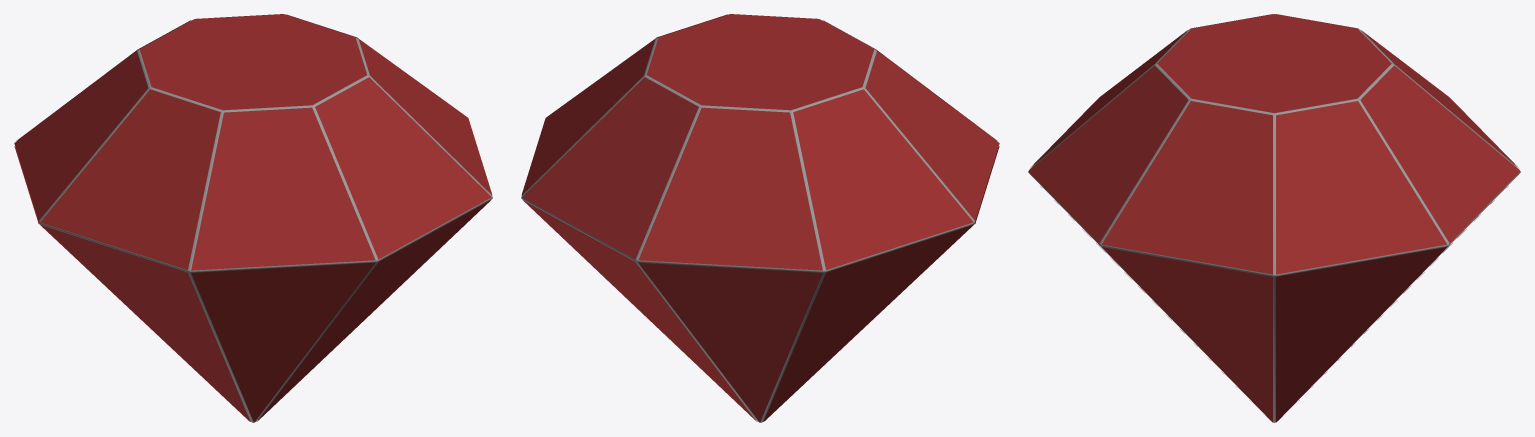
Rendered from Gem.fbx.
The picture shows the model from 3 angles, left to right: view 1: azimuth 30°, elevation 25°; view 2: azimuth 150°, elevation 25°; view 3: azimuth 270°, elevation 25°; orthographic projection.
Visible parts, largest first — view 1: Group002, Group1; view 2: Group002, Group1; view 3: Group002, Group1.
Boxes of the visible parts, x1,y1,x2,y2 form: Group002: [14, 14, 492, 422]; Group1: [38, 20, 492, 422]; Group002: [521, 14, 999, 422]; Group1: [521, 20, 975, 422]; Group002: [1028, 14, 1520, 422]; Group1: [1028, 29, 1520, 422].
Size of the model in its own units: 86.49 by 69.6 by 86.49.
